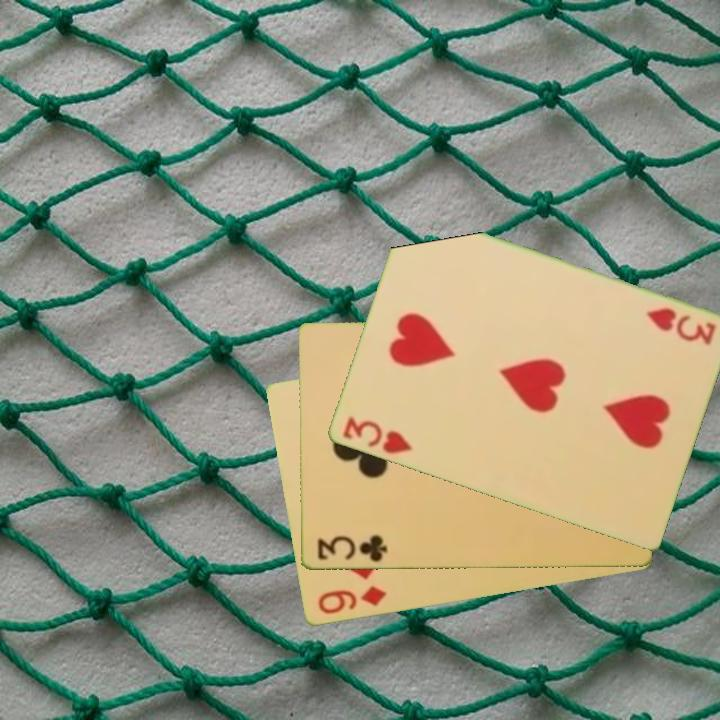3c: (314, 532, 390, 565)
3h: (338, 413, 415, 457), (643, 304, 718, 348)
9d: (314, 582, 389, 618)
